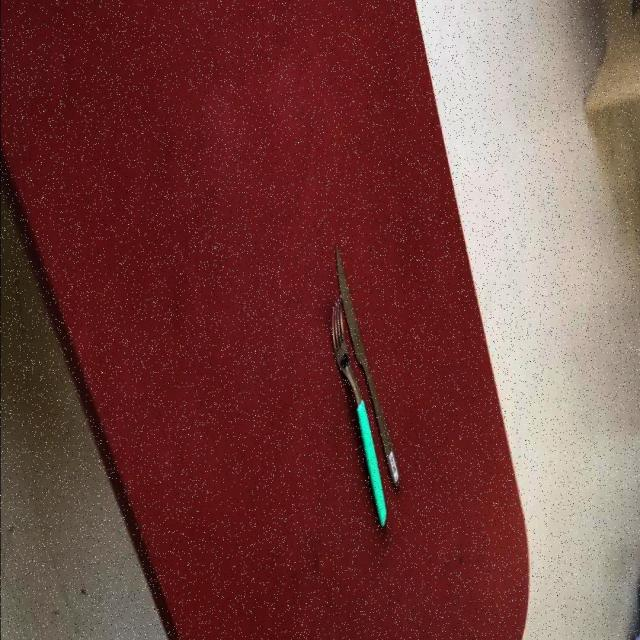Fork: (331, 294, 388, 526)
Knife: (334, 242, 402, 488)
